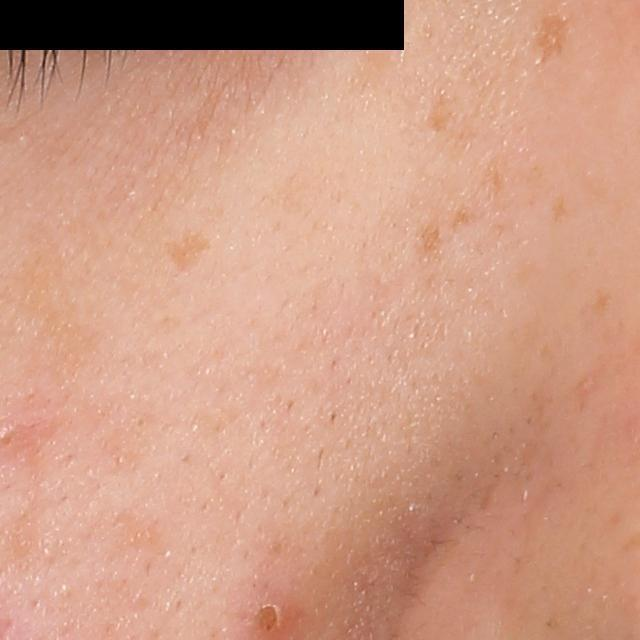melasma: (160, 222, 213, 278), (531, 7, 571, 70), (482, 154, 510, 202), (446, 198, 475, 236), (418, 217, 446, 255), (423, 99, 453, 133), (552, 190, 572, 221)
